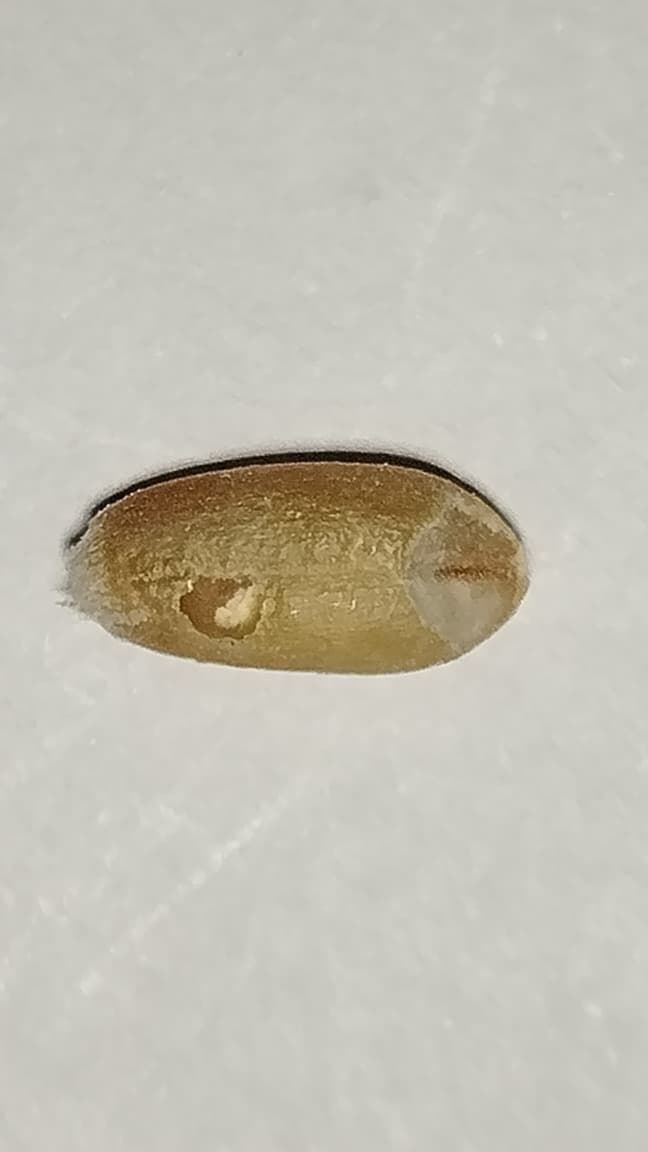damage: (102, 451, 527, 673)
insectdamage: (152, 496, 310, 669), (405, 495, 518, 654)
